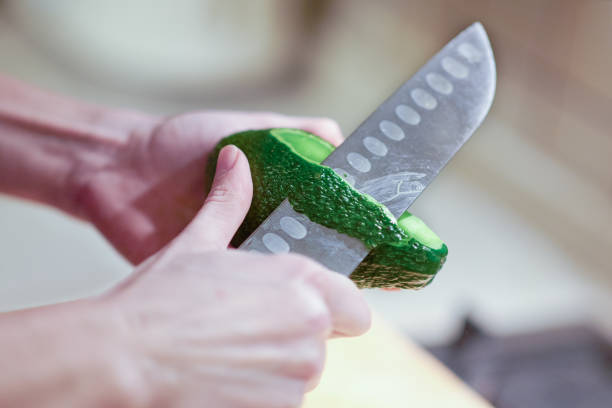knife: (238, 21, 499, 280)
